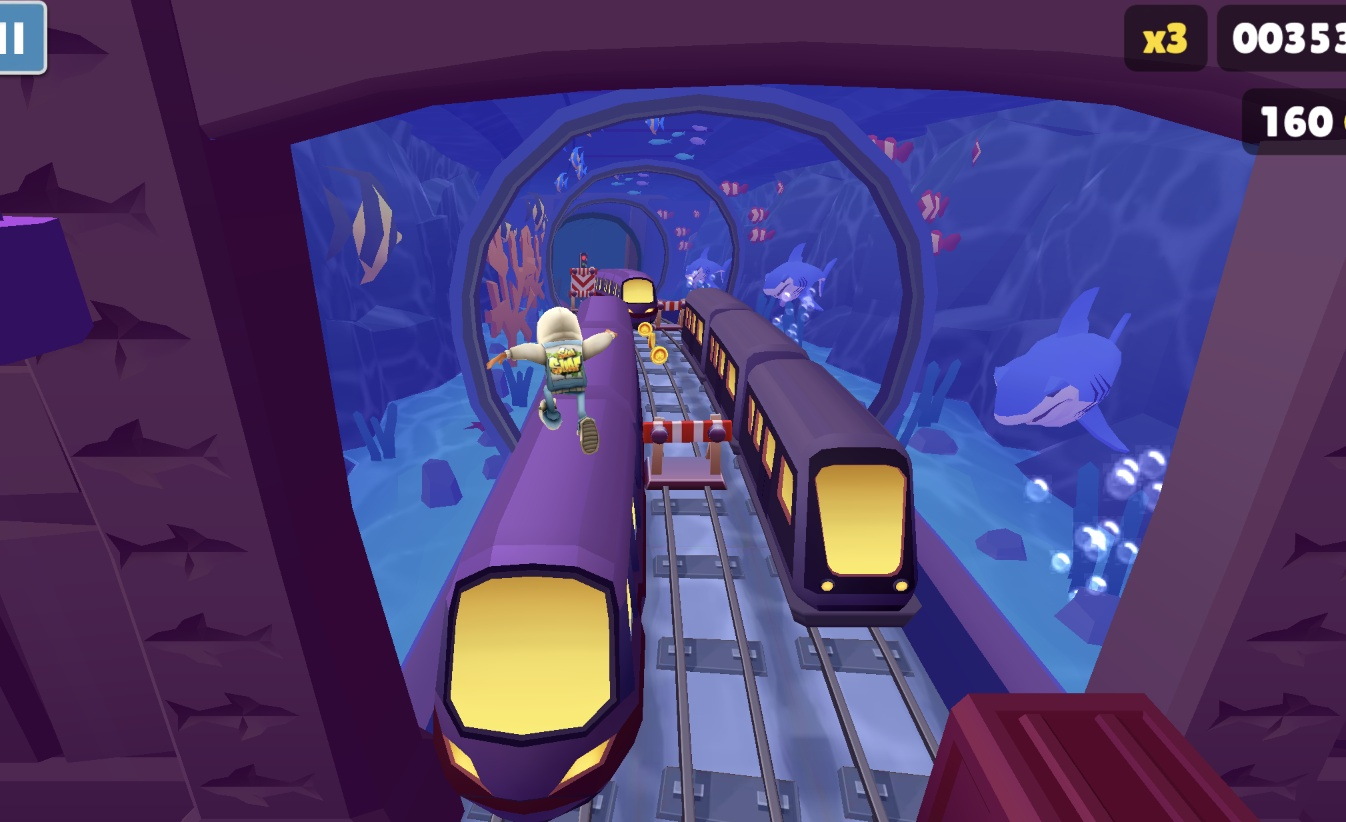ground_barrier: (644, 420, 734, 491), (657, 301, 684, 328)
overhead_barrier: (569, 267, 598, 299)
train: (432, 294, 651, 822), (678, 290, 918, 626), (918, 693, 1257, 822), (589, 270, 659, 325)
